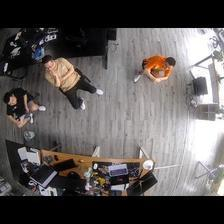normal: (4, 89, 45, 126), (132, 54, 175, 84)
